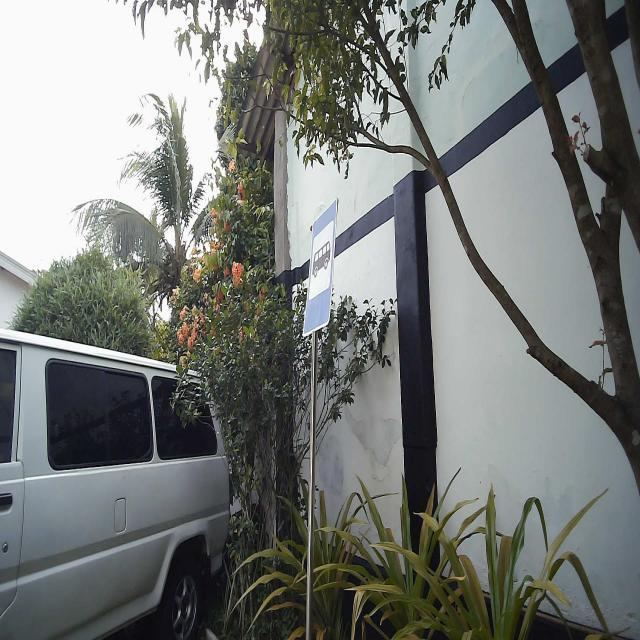bus_stop: (302, 198, 338, 339)
